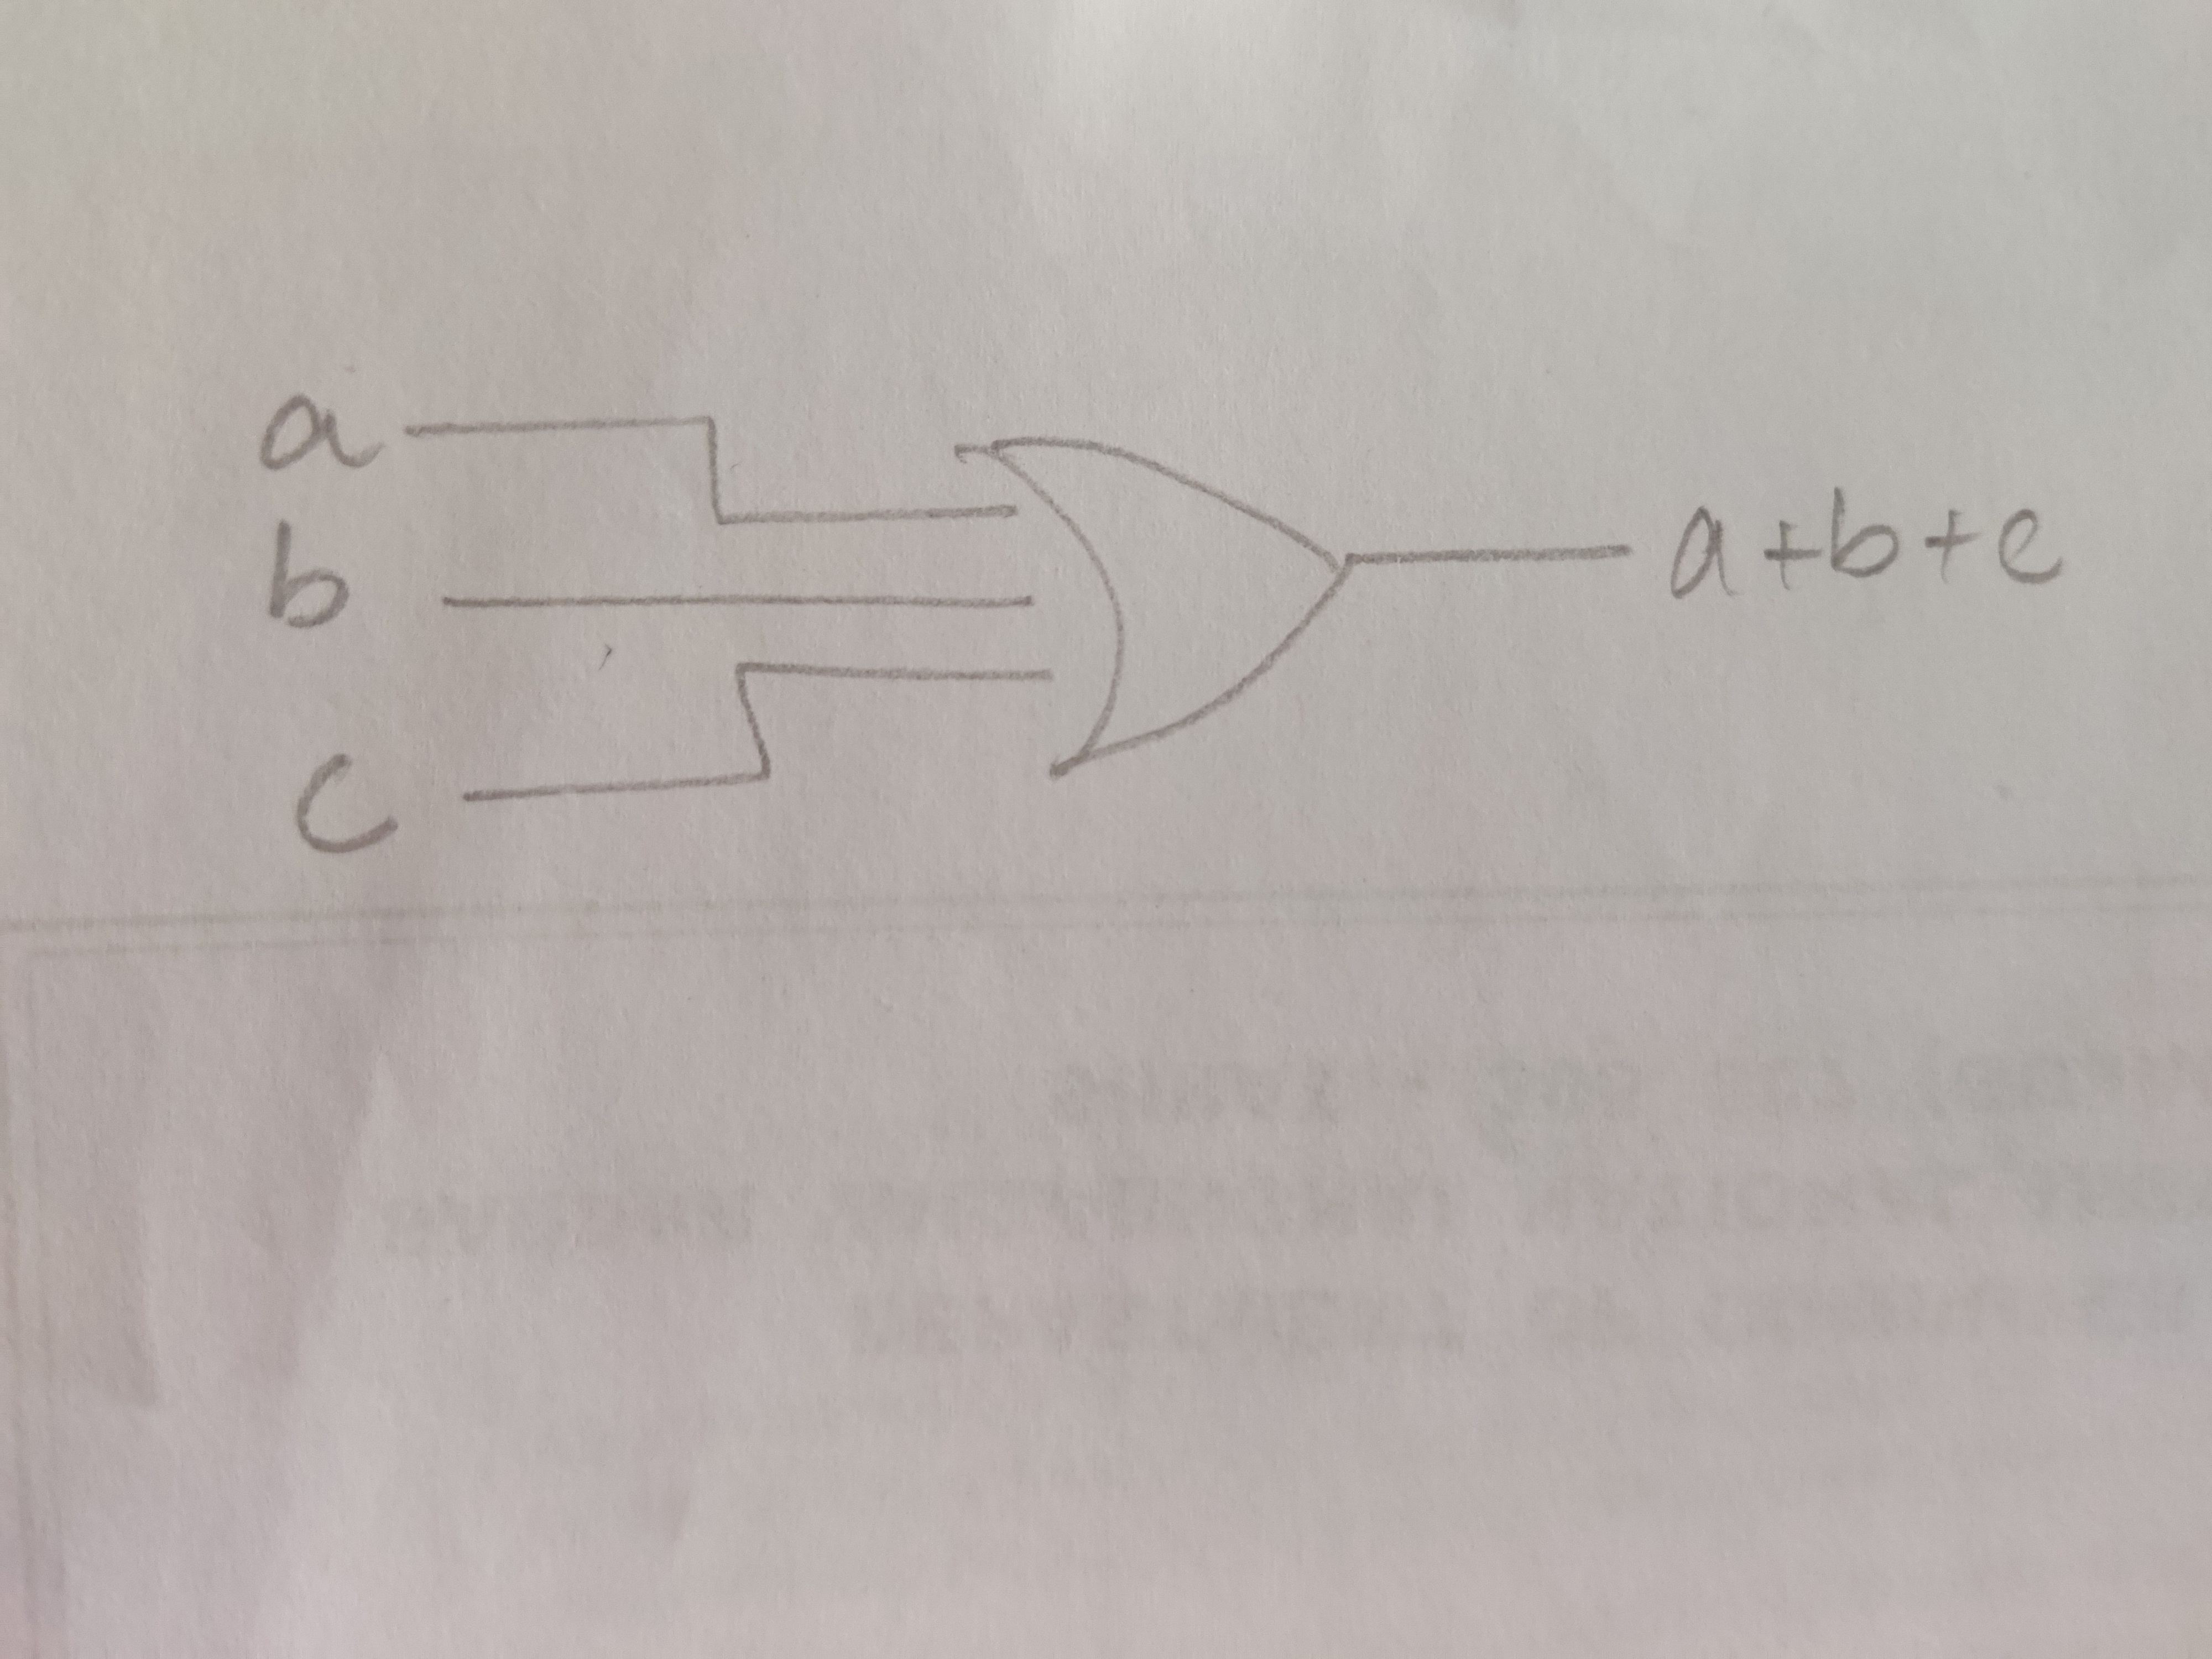or: (918, 317, 1430, 843)
